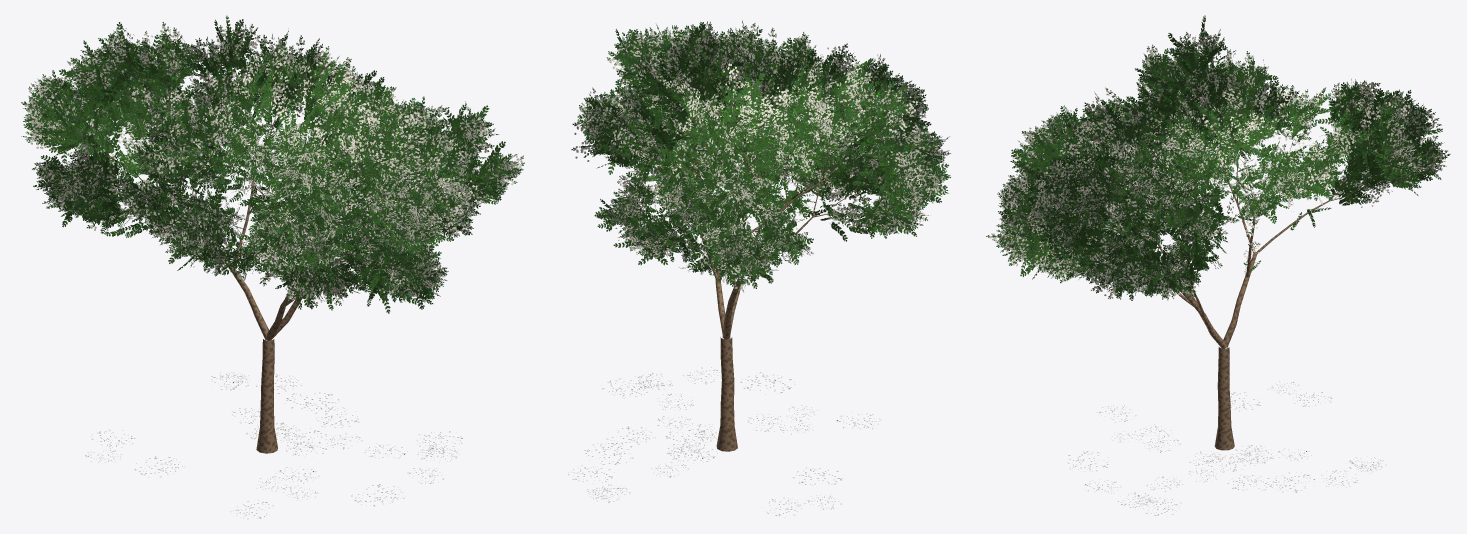
The model's file is guabiroba_5anos.glb.
3 renders of one model, left to right at view 1: azimuth 30°, elevation 25°; view 2: azimuth 150°, elevation 25°; view 3: azimuth 270°, elevation 25°, orthographic. The views are drawn at different scales.
Visible parts, largest first — view 1: Guabiroba; view 2: Guabiroba; view 3: Guabiroba.
Part boxes in pixels (<box>): Guabiroba: <box>21,15,524,519</box>; Guabiroba: <box>568,20,950,516</box>; Guabiroba: <box>986,15,1450,515</box>.
Bounding box in the file's own units: 2.55 × 2.5 × 2.8.
Materials: 3 (3 with a texture image).
